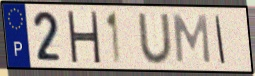1: (105, 9, 122, 67)
2: (33, 10, 67, 64)
H: (65, 10, 102, 66)
I: (214, 14, 228, 66)
M: (171, 13, 212, 66)
U: (136, 12, 175, 66)
